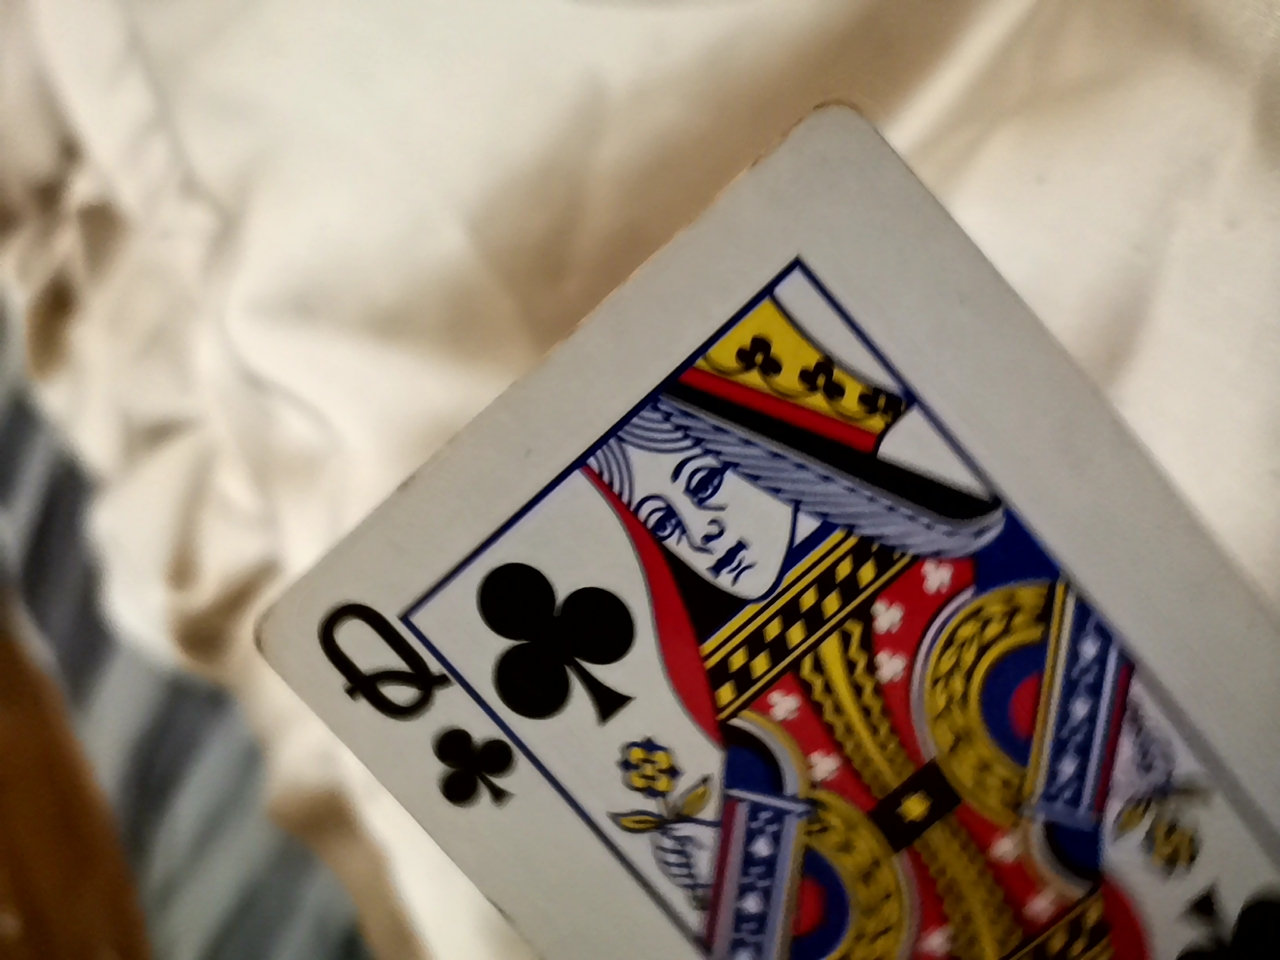mh q: (258, 101, 1269, 955)
